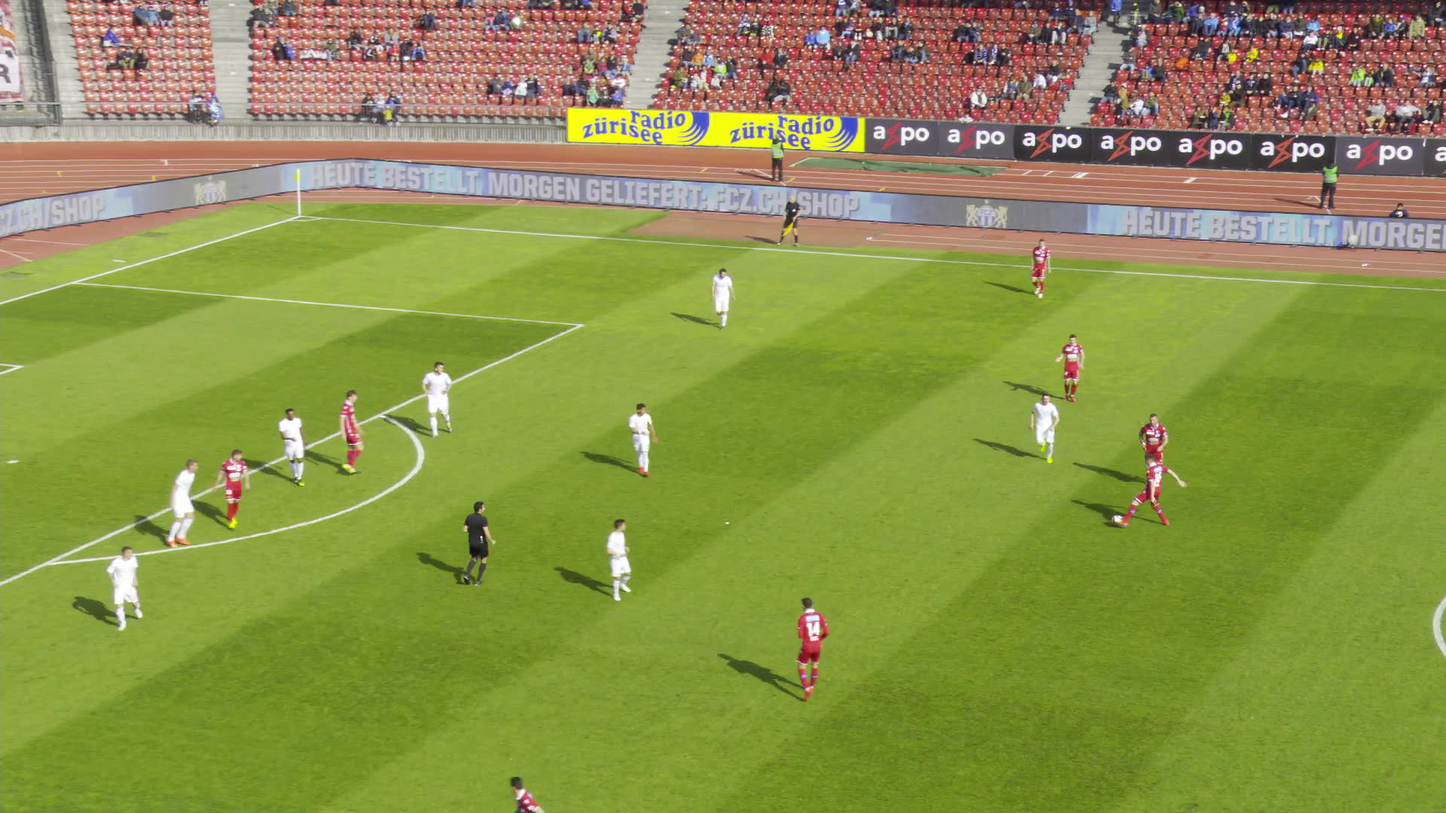ball: (1110, 514, 1119, 525)
player: (1110, 452, 1185, 525), (157, 462, 202, 549), (101, 545, 142, 632), (791, 596, 825, 699), (208, 448, 246, 530), (600, 516, 631, 601), (329, 390, 359, 477), (272, 406, 303, 486), (420, 361, 450, 440), (1136, 412, 1169, 478), (1029, 391, 1058, 463), (1051, 335, 1082, 402), (624, 403, 652, 477), (709, 268, 735, 331), (1027, 238, 1050, 300), (517, 775, 551, 811)
referee: (460, 498, 493, 587), (773, 193, 798, 247)
